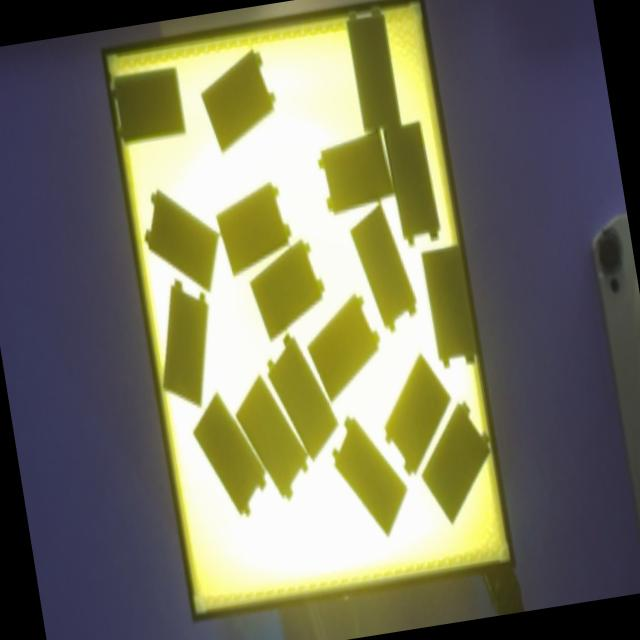bateria: (236, 372, 308, 502), (194, 390, 266, 520), (267, 334, 339, 460), (332, 417, 407, 537), (350, 203, 417, 332), (422, 401, 490, 523), (385, 353, 451, 476), (307, 294, 380, 403), (200, 51, 276, 154), (145, 189, 219, 292), (249, 240, 325, 340), (217, 181, 291, 277), (384, 122, 441, 245), (421, 243, 477, 368), (347, 9, 401, 131), (319, 129, 394, 216), (110, 68, 184, 144), (164, 281, 208, 408)
mesa: (100, 0, 516, 623)
